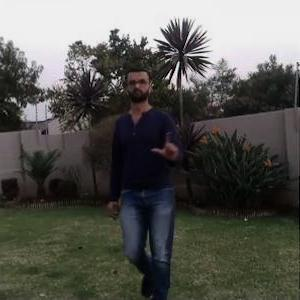land_hand: (152, 123, 183, 164)
